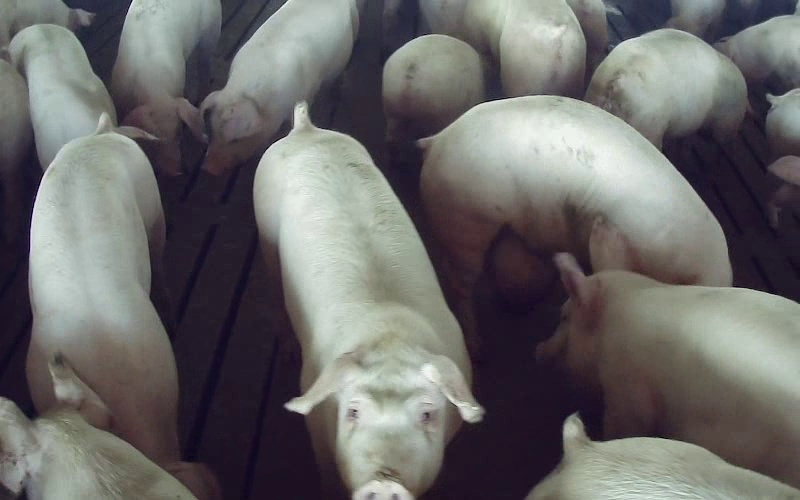pig: (254, 103, 482, 499), (419, 96, 731, 343), (537, 220, 799, 487), (27, 116, 178, 464), (9, 24, 155, 168), (585, 29, 747, 148), (420, 0, 585, 97), (382, 34, 483, 141)
